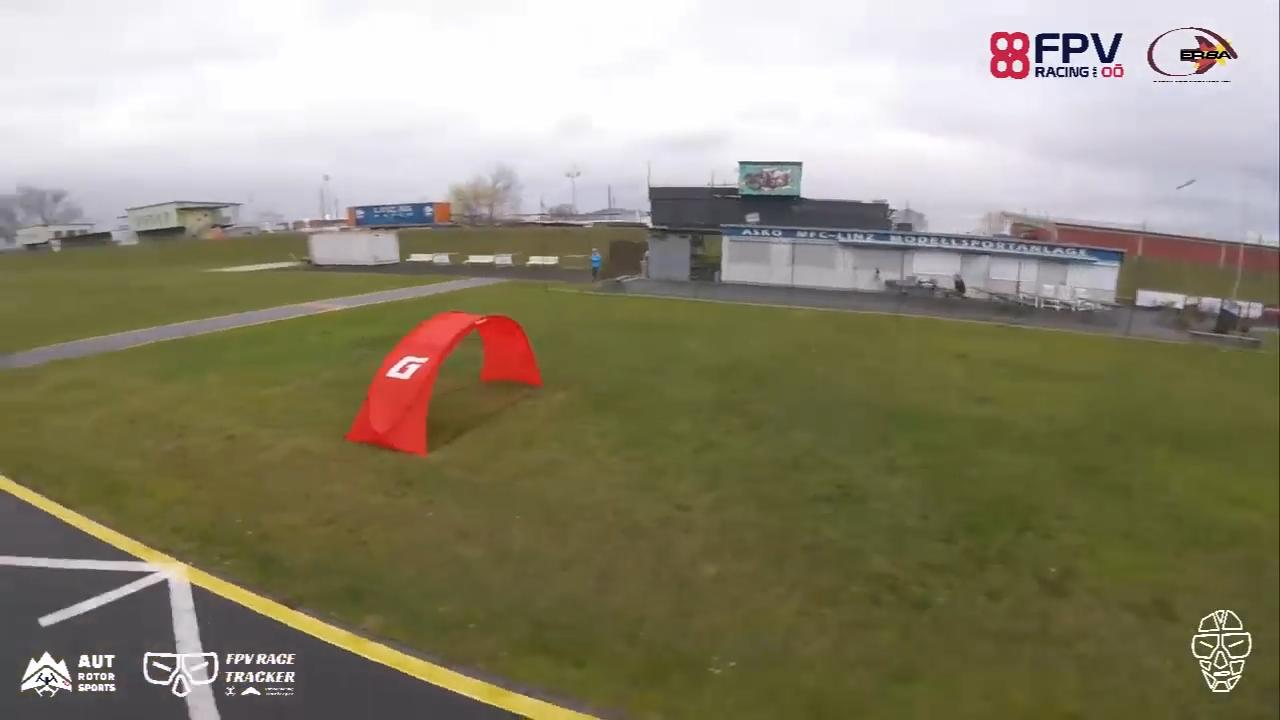gate: (341, 310, 546, 459)
